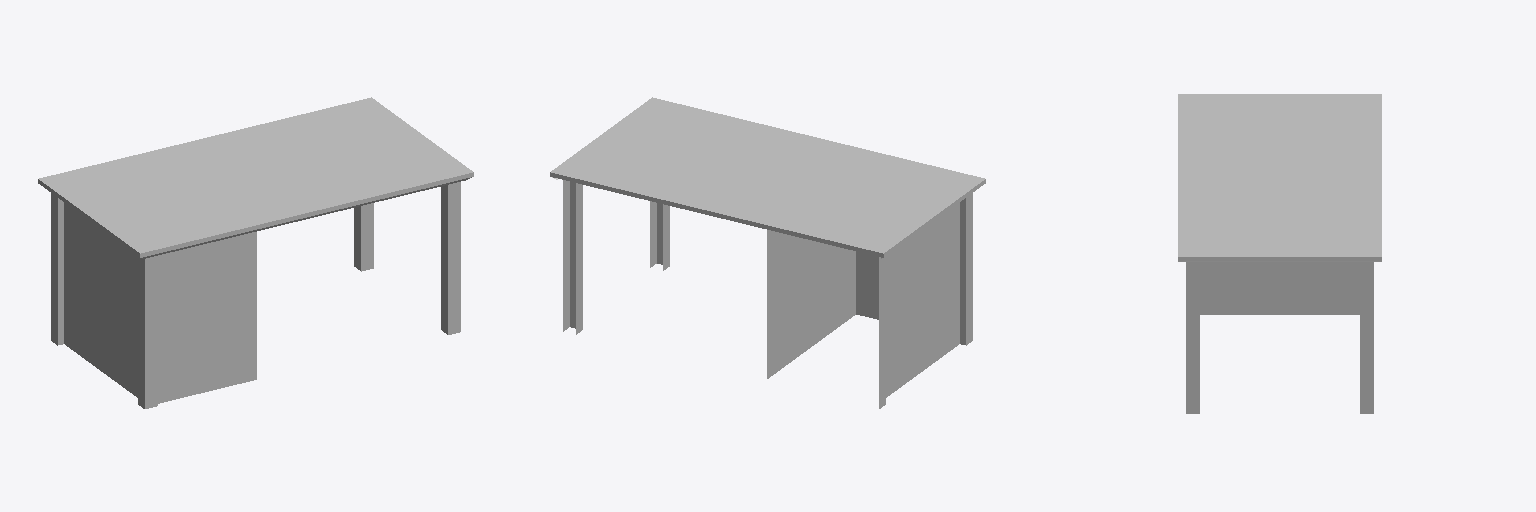
File: translatedtable.obj
3 views of the same model, side by side, from view 1: azimuth 30°, elevation 25°; view 2: azimuth 150°, elevation 25°; view 3: azimuth 270°, elevation 25° (orthographic).
Parts seen in each view (by area): view 1: group pasted__polySurface10 polySurface1, Organizer group pasted__pCube1 pasted__polySurface10 polySurface; view 2: group pasted__polySurface10 polySurface1, Organizer group pasted__pCube1 pasted__polySurface10 polySurface; view 3: group pasted__polySurface10 polySurface1, Organizer group pasted__pCube1 pasted__polySurface10 polySurface.
Part boxes in pixels (bbox=[...]): group pasted__polySurface10 polySurface1: bbox=[39, 97, 472, 408]; Organizer group pasted__pCube1 pasted__polySurface10 polySurface: bbox=[38, 172, 473, 408]; group pasted__polySurface10 polySurface1: bbox=[551, 97, 984, 378]; Organizer group pasted__pCube1 pasted__polySurface10 polySurface: bbox=[550, 172, 985, 408]; group pasted__polySurface10 polySurface1: bbox=[1178, 94, 1381, 413]; Organizer group pasted__pCube1 pasted__polySurface10 polySurface: bbox=[1178, 257, 1381, 260].
Bounding box in the file's own units: 166 × 76.34 × 88.02.